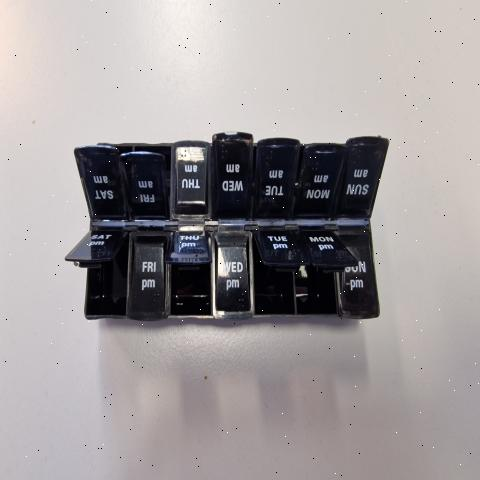Open: (66, 232, 128, 319), (248, 233, 299, 316), (165, 234, 212, 316), (297, 266, 355, 315), (130, 142, 172, 202), (295, 142, 307, 208), (253, 142, 259, 214), (113, 145, 126, 156)
